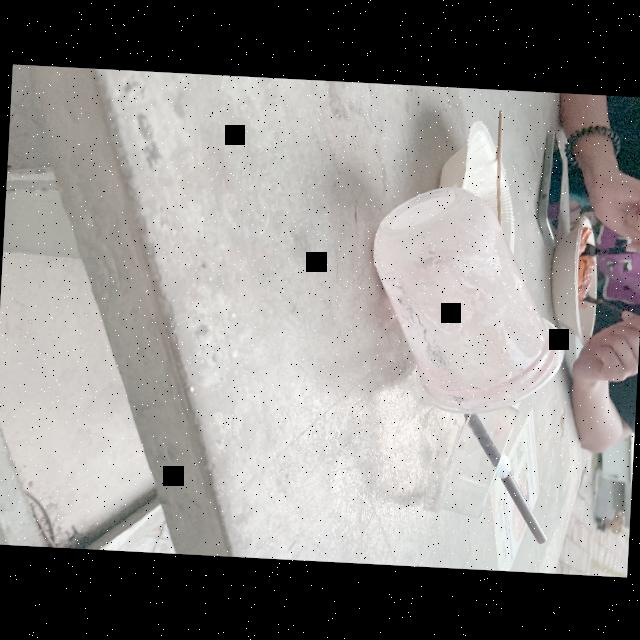cardboard_bowl: (433, 121, 533, 264)
plastic_cup: (364, 186, 576, 420)
plastic_cup_lid: (421, 381, 523, 532)
stick: (495, 104, 508, 235)
straw: (463, 409, 552, 547)
